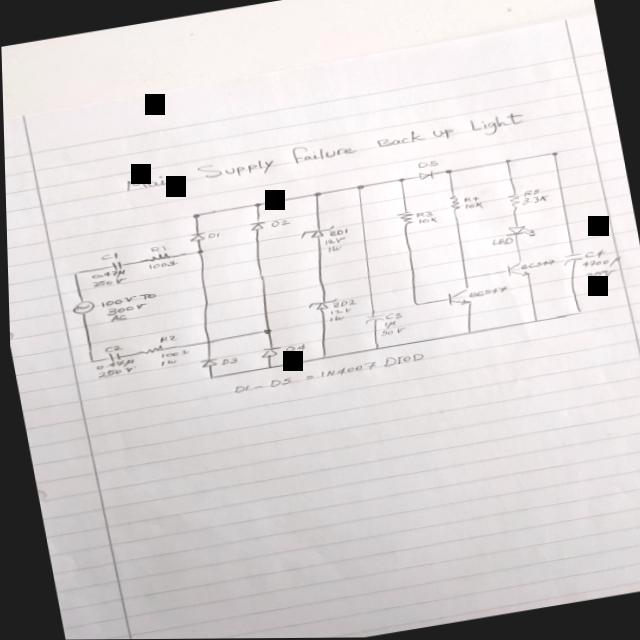capacitor: (558, 252, 582, 267), (361, 313, 385, 325), (103, 351, 120, 363), (107, 260, 124, 271)
crossover: (201, 340, 211, 346)
diode: (501, 223, 535, 243), (300, 229, 337, 245), (304, 299, 338, 312), (255, 345, 280, 360), (246, 218, 266, 232), (195, 357, 218, 368), (416, 170, 434, 183), (185, 231, 206, 242)
junction: (257, 327, 273, 337), (440, 168, 454, 175), (409, 301, 420, 308), (193, 248, 204, 255), (189, 212, 200, 219), (310, 191, 321, 198), (353, 184, 364, 191), (546, 152, 558, 158), (462, 330, 472, 337), (251, 202, 262, 208), (573, 310, 583, 316), (204, 374, 214, 380), (263, 364, 272, 370), (395, 178, 405, 183), (69, 271, 79, 276), (502, 159, 511, 164), (370, 346, 379, 351), (530, 319, 539, 324), (317, 355, 326, 360), (85, 359, 93, 364), (460, 276, 468, 280)
resistor: (141, 251, 173, 264), (132, 343, 163, 356), (393, 210, 414, 228), (505, 192, 521, 213), (446, 194, 461, 212)
source: (68, 298, 95, 317)
text: (119, 108, 528, 197), (228, 351, 424, 395), (96, 291, 157, 308), (103, 302, 147, 317), (579, 256, 620, 272), (464, 286, 508, 300), (93, 365, 135, 379), (92, 358, 133, 372), (88, 268, 126, 283), (582, 268, 616, 282), (518, 259, 555, 271), (90, 276, 126, 288), (518, 194, 549, 207), (156, 348, 188, 360), (145, 259, 177, 270), (488, 236, 513, 248), (329, 299, 357, 309), (377, 327, 405, 337), (415, 159, 439, 170), (581, 250, 604, 261), (282, 344, 305, 355), (321, 236, 345, 246), (462, 202, 483, 213), (97, 252, 119, 262), (147, 244, 166, 255), (107, 312, 126, 323), (267, 218, 290, 227), (325, 229, 348, 238), (327, 307, 350, 316), (101, 344, 123, 353), (415, 217, 436, 226), (155, 334, 176, 343), (217, 357, 237, 366), (413, 211, 432, 220), (156, 358, 175, 367), (520, 189, 539, 198), (382, 312, 401, 321), (324, 245, 341, 254), (380, 320, 395, 330), (461, 196, 478, 204), (325, 315, 342, 323), (204, 232, 219, 240)
transistor: (442, 285, 473, 309), (502, 259, 530, 280)
